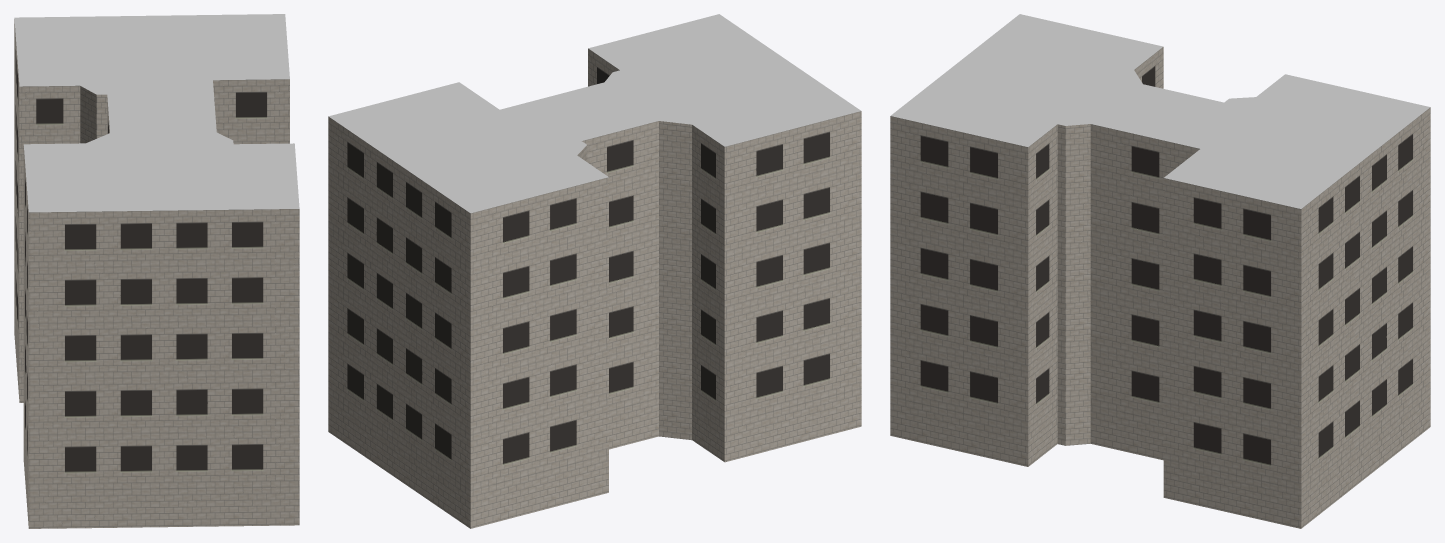
File: building-0-0-58.dae
3 renders of one model, left to right at view 1: azimuth 30°, elevation 25°; view 2: azimuth 150°, elevation 25°; view 3: azimuth 270°, elevation 25°, orthographic.
Parts seen in each view (by area): view 1: geopipeinodeFRD8h20u (×3); view 2: geopipeinodeFRD8h20u (×3); view 3: geopipeinodeFRD8h20u (×3).
Part boxes in pixels (x1=…): geopipeinodeFRD8h20u (×3): x1=14, y1=14, x2=299, y2=528; geopipeinodeFRD8h20u (×3): x1=328, y1=14, x2=861, y2=528; geopipeinodeFRD8h20u (×3): x1=890, y1=14, x2=1430, y2=528.
Bounding box in the file's own units: 25.51 × 29.85 × 19.5.
